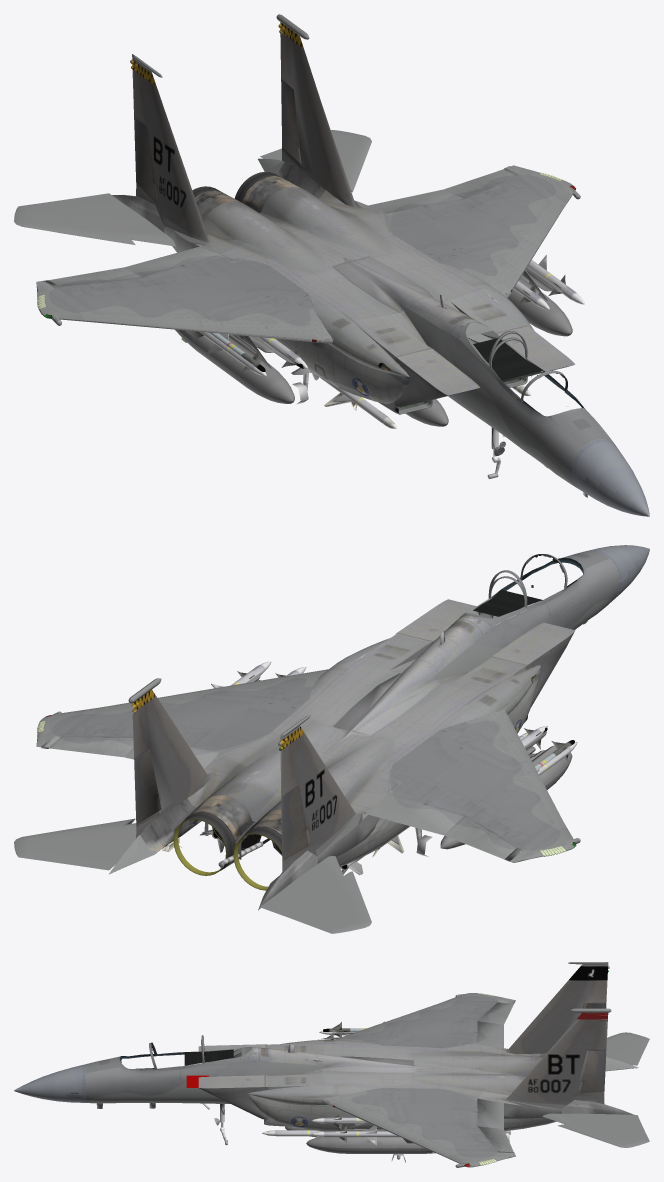
3 views of the same model, one above another, from view 1: azimuth 30°, elevation 25°; view 2: azimuth 150°, elevation 25°; view 3: azimuth 270°, elevation 25° (orthographic). The views are drawn at different scales.
Visible parts, largest first — view 1: geometry_0, geometry_2, geometry_4, geometry_21, geometry_3, geometry_16, geometry_24; view 2: geometry_0, geometry_2, geometry_21, geometry_24, geometry_3, geometry_16, geometry_4, geometry_27; view 3: geometry_0, geometry_2, geometry_4, geometry_3, geometry_16.
Part boxes in pixels (x1,y1,x2,y2): geometry_0: [14, 14, 649, 516]; geometry_2: [172, 246, 574, 407]; geometry_4: [175, 275, 572, 426]; geometry_21: [195, 161, 325, 221]; geometry_3: [458, 321, 567, 401]; geometry_16: [473, 338, 543, 380]; geometry_24: [192, 171, 505, 478]; geometry_0: [14, 545, 649, 933]; geometry_2: [173, 599, 575, 866]; geometry_21: [140, 795, 281, 882]; geometry_24: [182, 655, 536, 870]; geometry_3: [458, 554, 567, 625]; geometry_16: [473, 590, 542, 616]; geometry_4: [237, 671, 572, 849]; geometry_27: [173, 818, 281, 890]; geometry_0: [14, 964, 649, 1167]; geometry_2: [198, 1044, 556, 1131]; geometry_4: [285, 1022, 435, 1153]; geometry_3: [149, 1039, 256, 1070]; geometry_16: [184, 1049, 233, 1065].
Size of the model in its own units: 12.6 by 5.46 by 19.51.
Materials: 11 (9 with a texture image).
